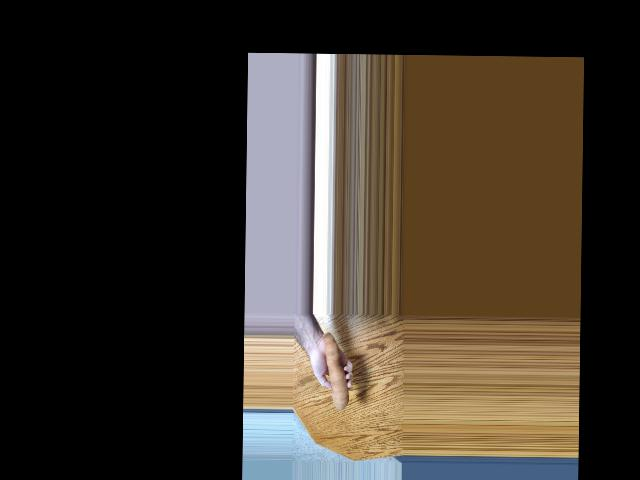sweet_potato: (319, 336, 353, 413)
